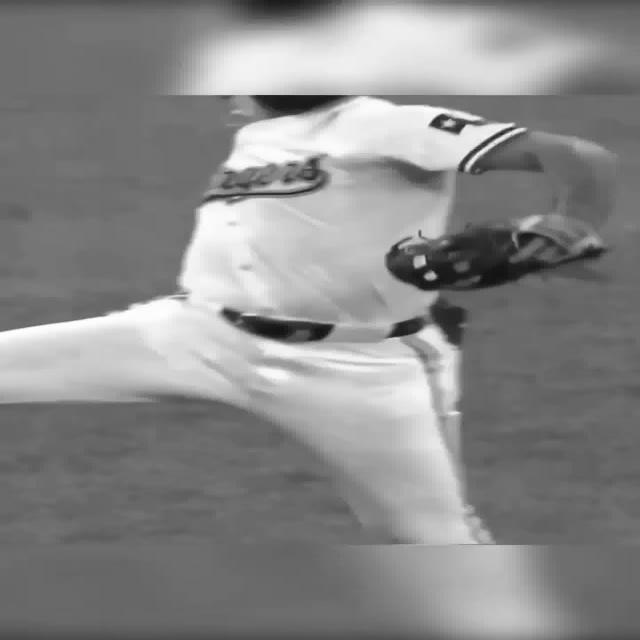baseball_glove: (387, 214, 605, 290)
